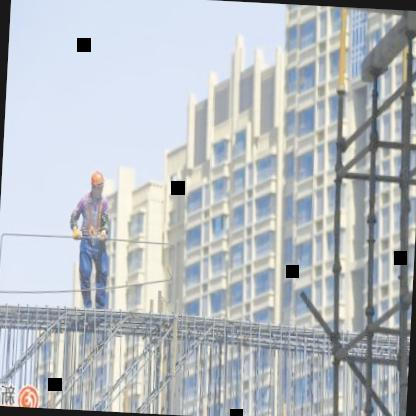helmet: (89, 164, 104, 198)
